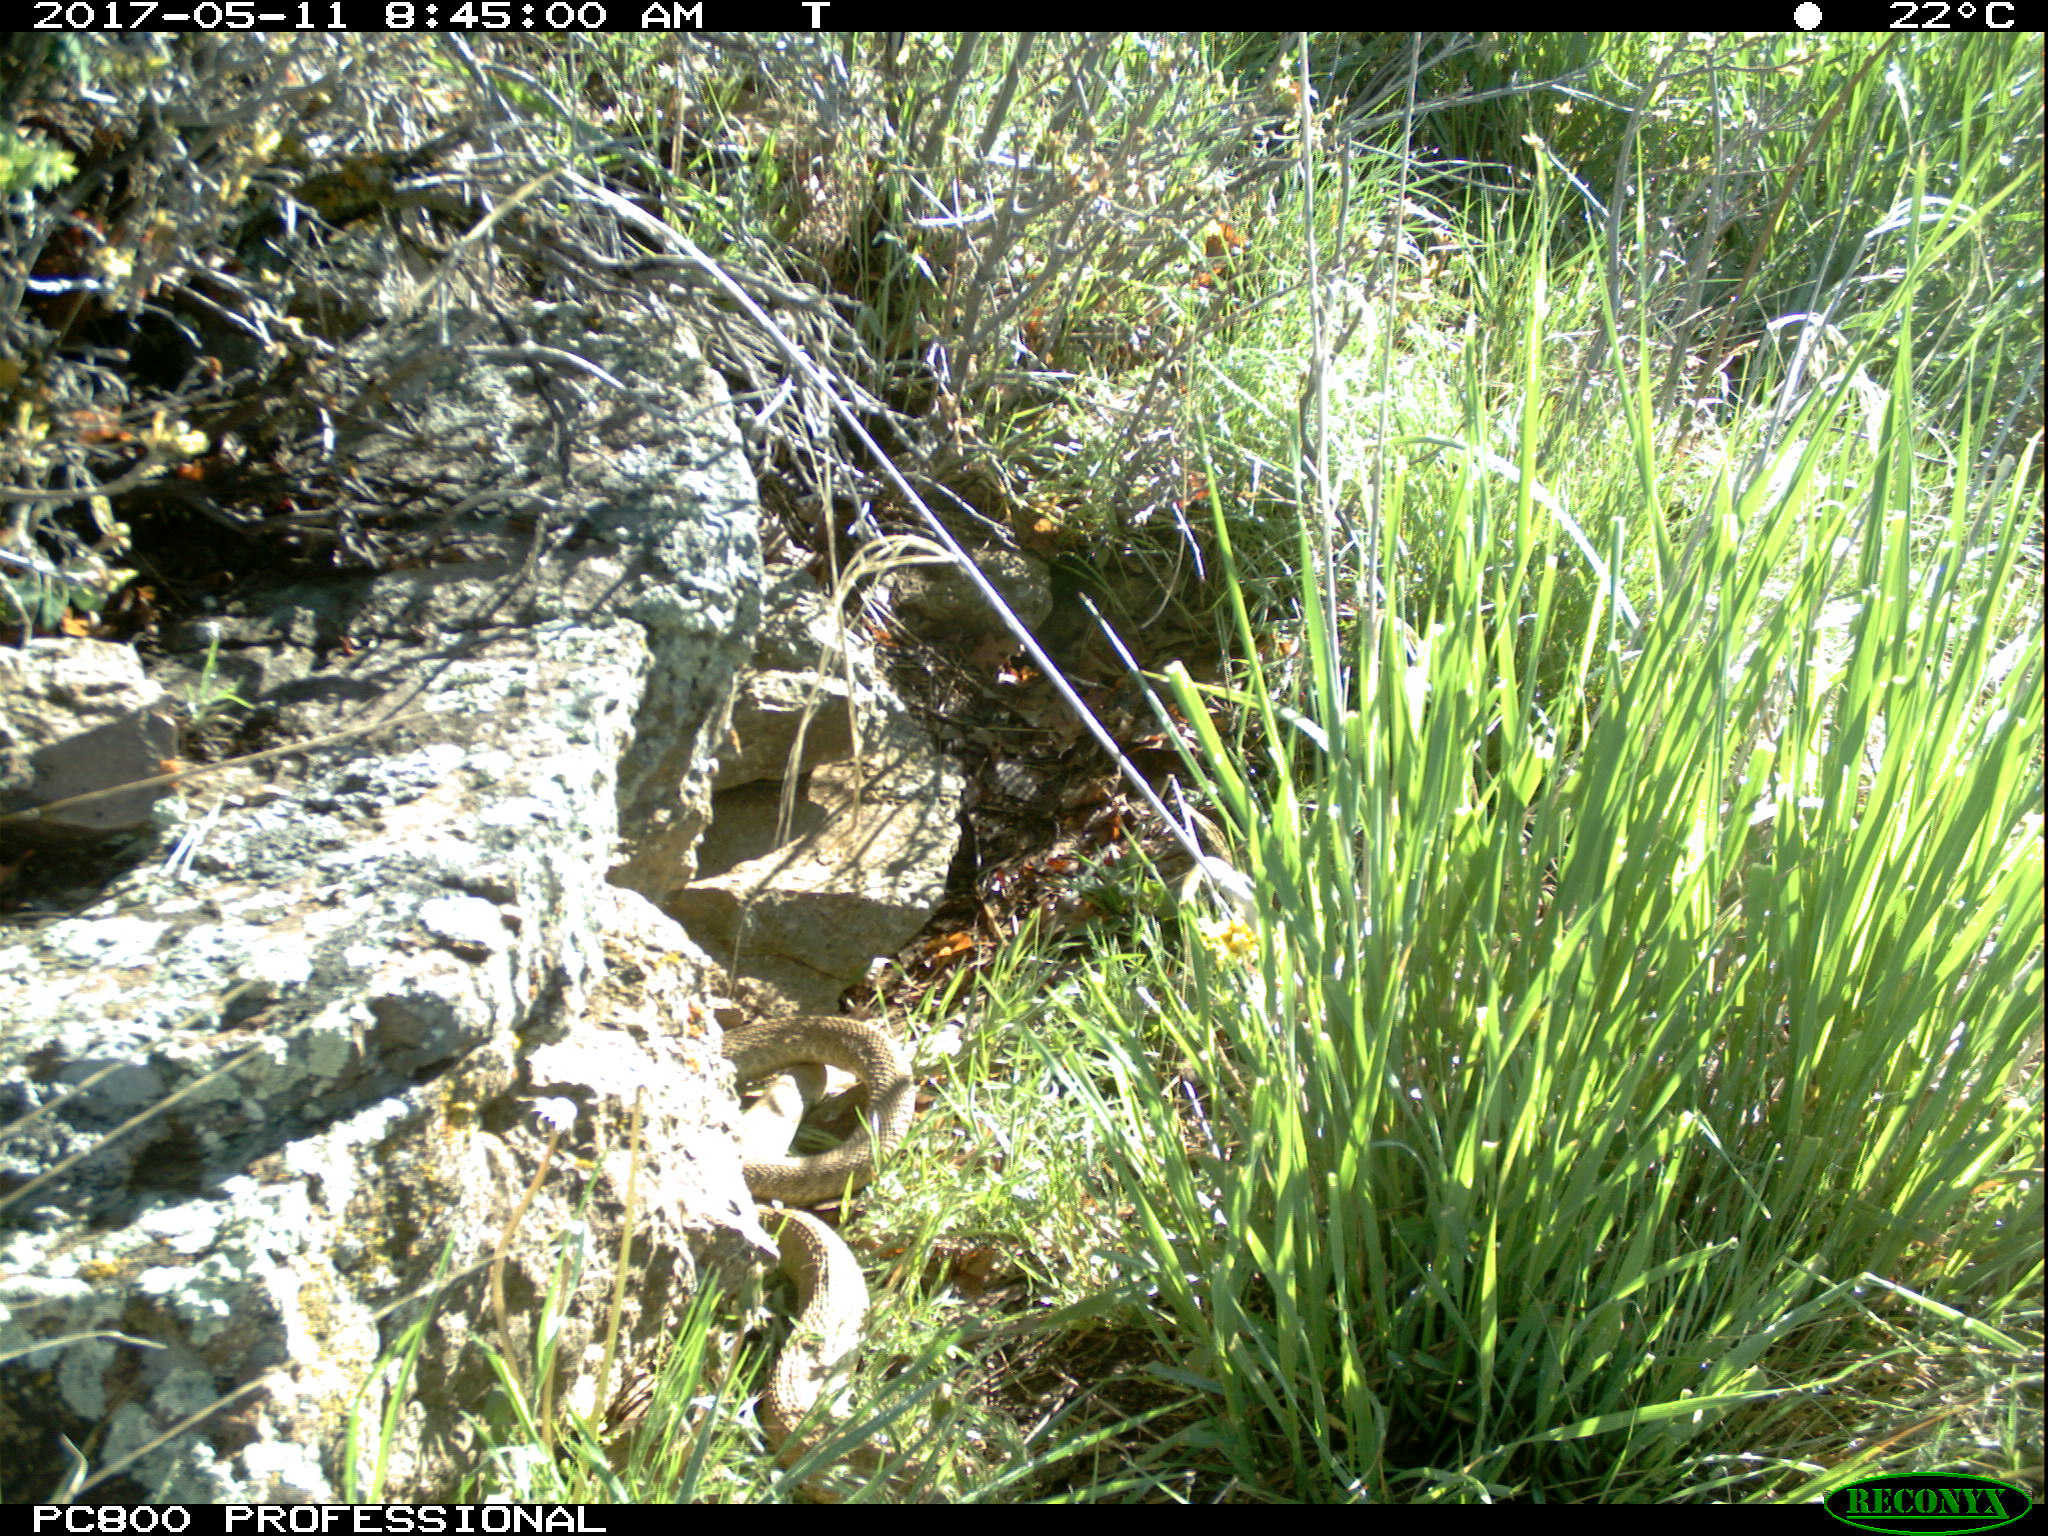snake: (737, 1196, 943, 1497), (713, 1015, 914, 1204)
